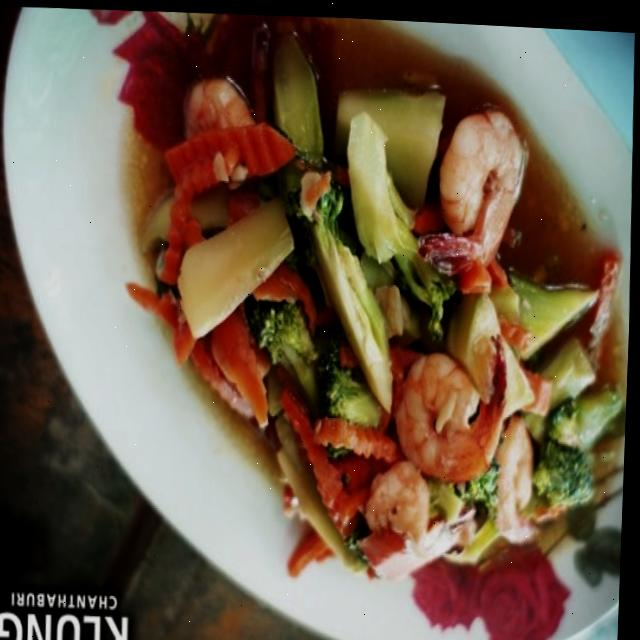蔬菜料理: (53, 3, 640, 640)
